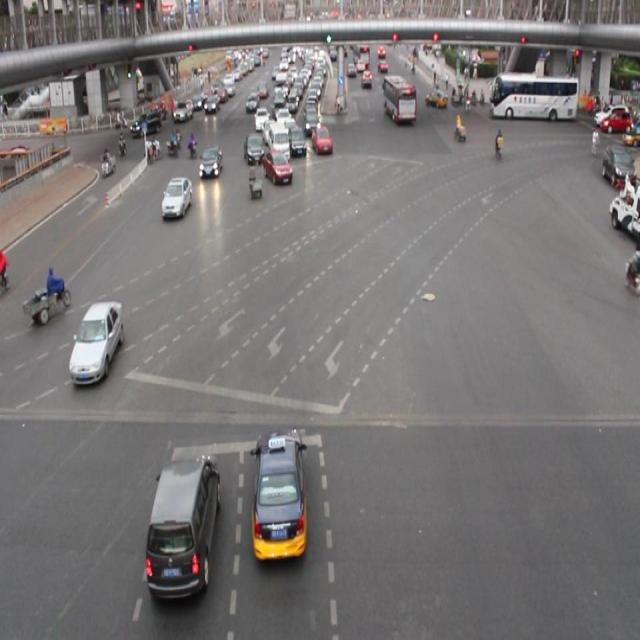car: (252, 428, 308, 559), (71, 302, 123, 379), (160, 176, 192, 220), (263, 148, 291, 186), (198, 145, 223, 180), (311, 122, 332, 154), (289, 124, 308, 158), (244, 132, 264, 164), (254, 107, 272, 135)
truck: (147, 452, 220, 598), (267, 122, 289, 162)
